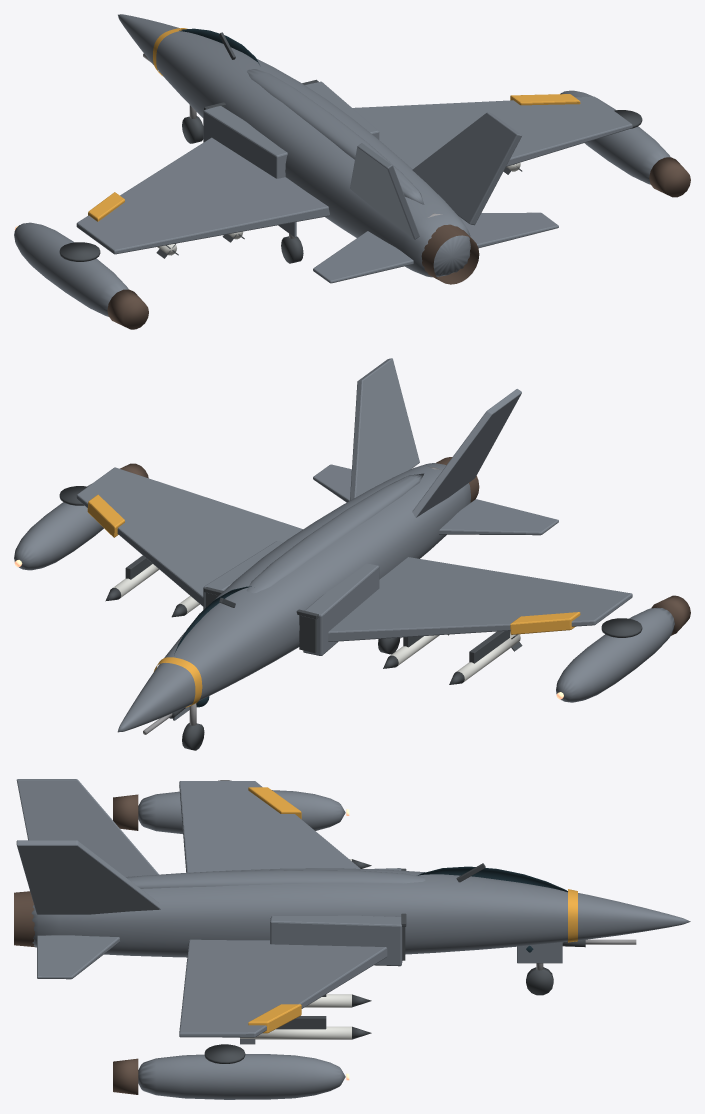
The model's file is kestrel.glb.
3 views of the same model, one above another, from view 1: azimuth 30°, elevation 25°; view 2: azimuth 150°, elevation 25°; view 3: azimuth 270°, elevation 25° (orthographic).
Visible parts, largest first — view 1: kestrel; view 2: kestrel; view 3: kestrel.
Part boxes in pixels (x1,y1,x2,y2): kestrel: (14,14,690,329); kestrel: (14,358,690,750); kestrel: (14,779,690,1099).
Bounding box in the file's own units: 13.21 × 3.98 × 13.32.
